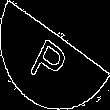P_NE: (32, 24, 78, 86)
